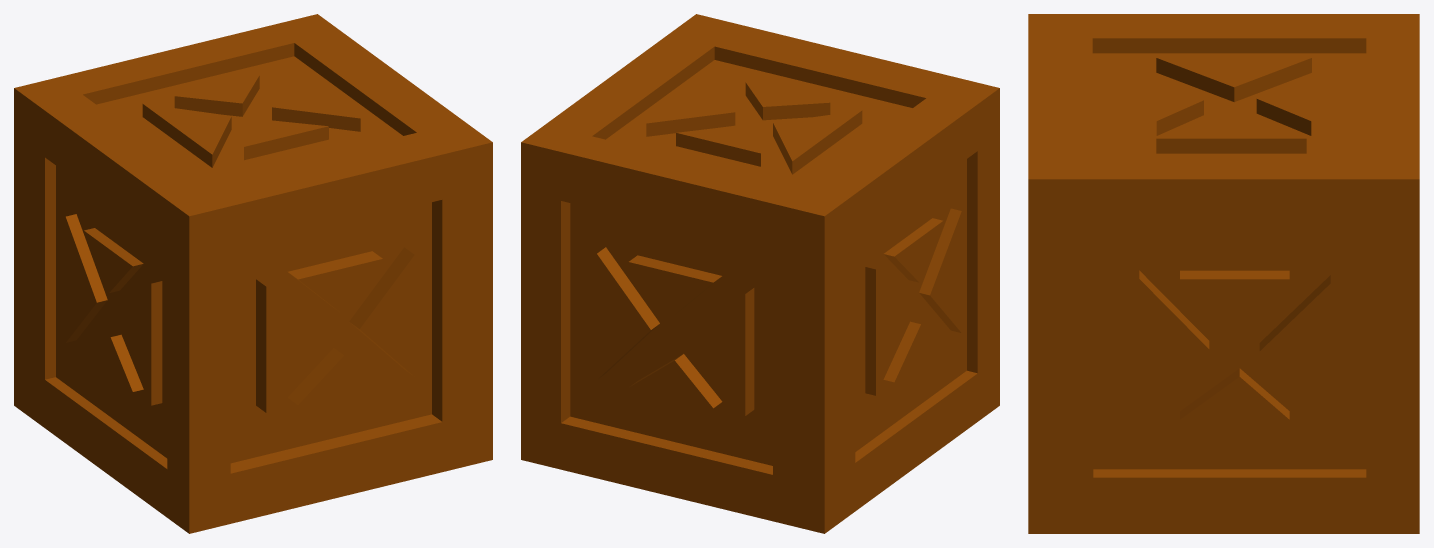
File: Crate.fbx
The picture shows the model from 3 angles, left to right: view 1: azimuth 30°, elevation 25°; view 2: azimuth 150°, elevation 25°; view 3: azimuth 270°, elevation 25°; orthographic projection. The views are drawn at different scales.
Visible parts, largest first — view 1: Crate1; view 2: Crate1; view 3: Crate1.
Boxes of the visible parts, left/top/right/bottom form: Crate1: left=14, top=14, right=492, bottom=533; Crate1: left=521, top=14, right=999, bottom=533; Crate1: left=1028, top=14, right=1419, bottom=533.
Bounding box in the file's own units: 50 × 50 × 50.
